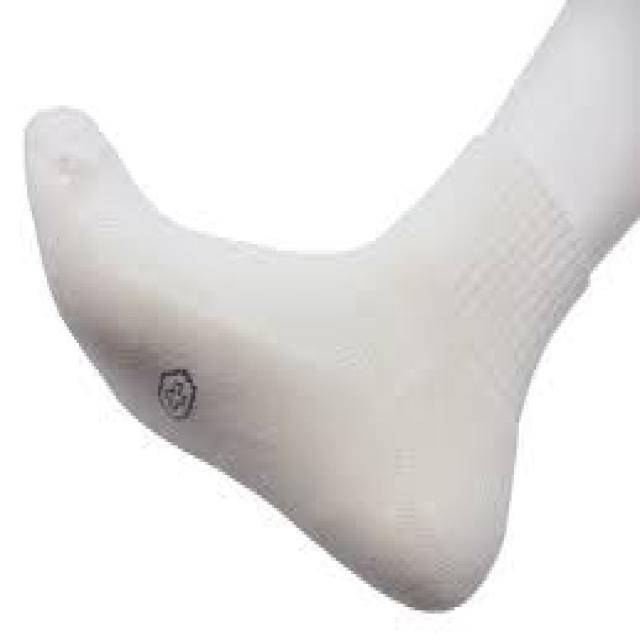sock: (22, 0, 638, 614)
